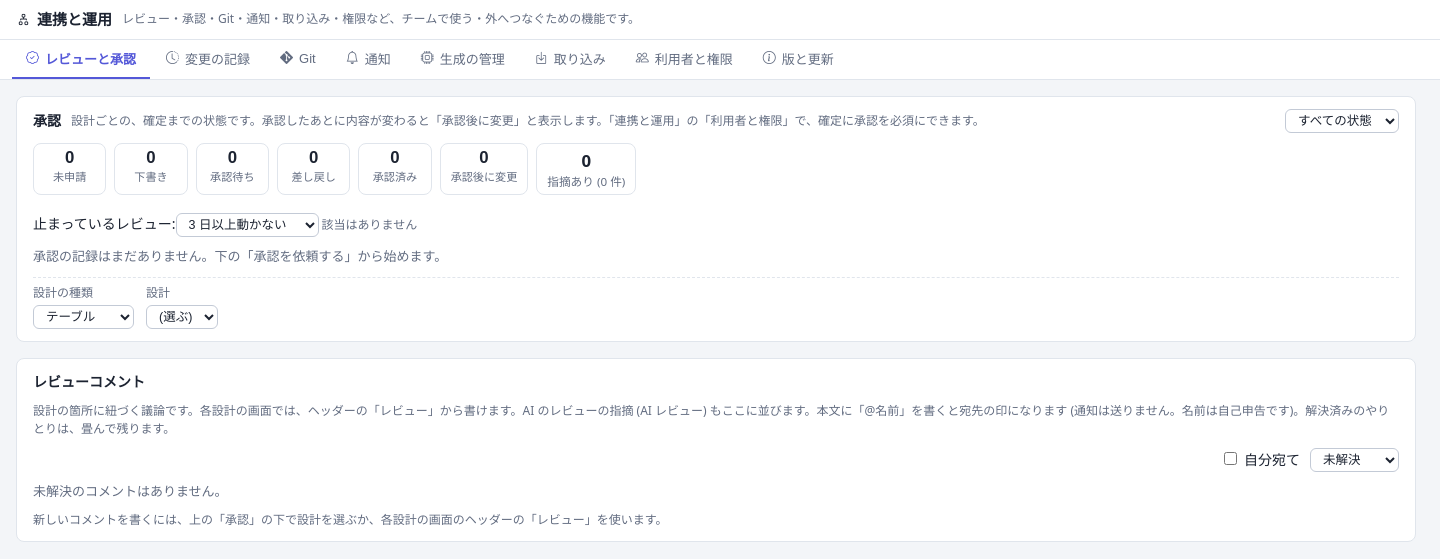
Scenario: 利用者と権限 › 保存が断られたら、理由を画面に出す
The image size is (1440, 559).
Click the tab "利用者と権限" at x=684, y=59, box [622,40,747,78]
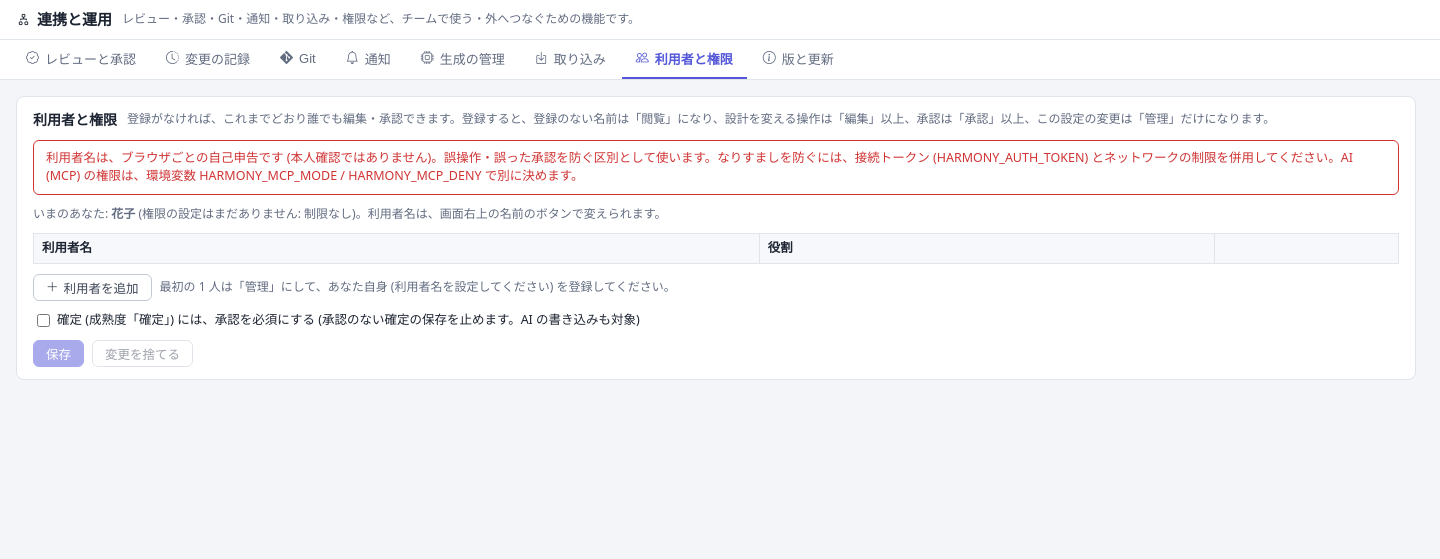
Click the button with test id "op-access-add" at x=92, y=287, box [33,274,152,301]
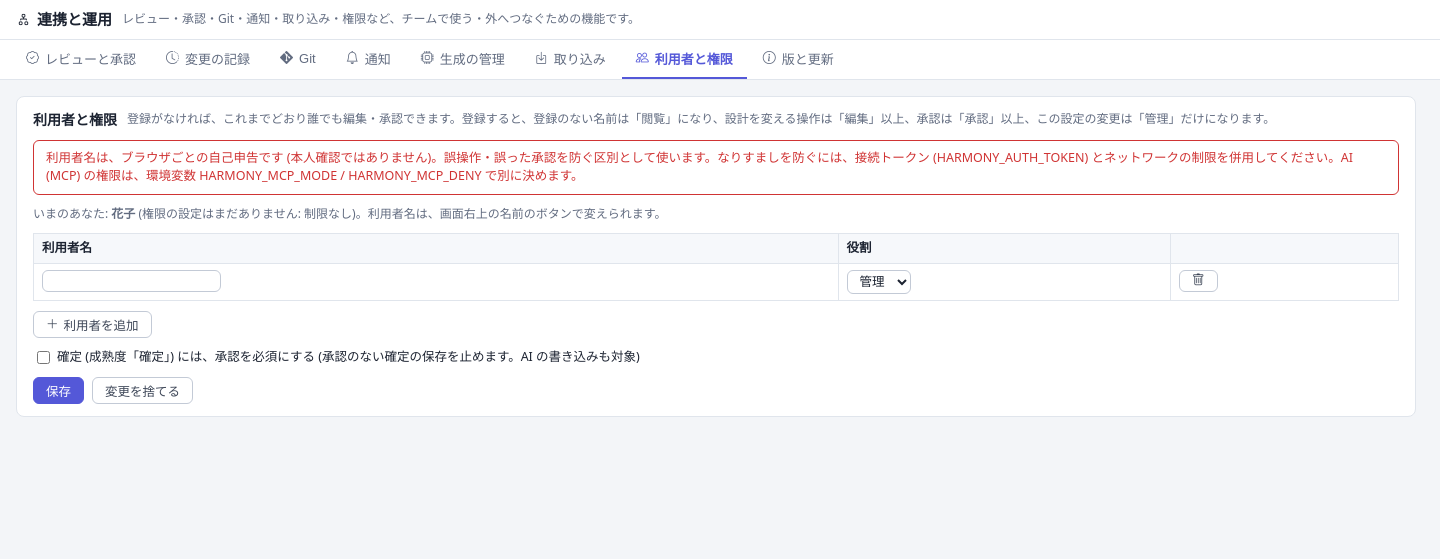
Click the button with test id "op-access-save" at x=58, y=390, box [33,377,84,404]
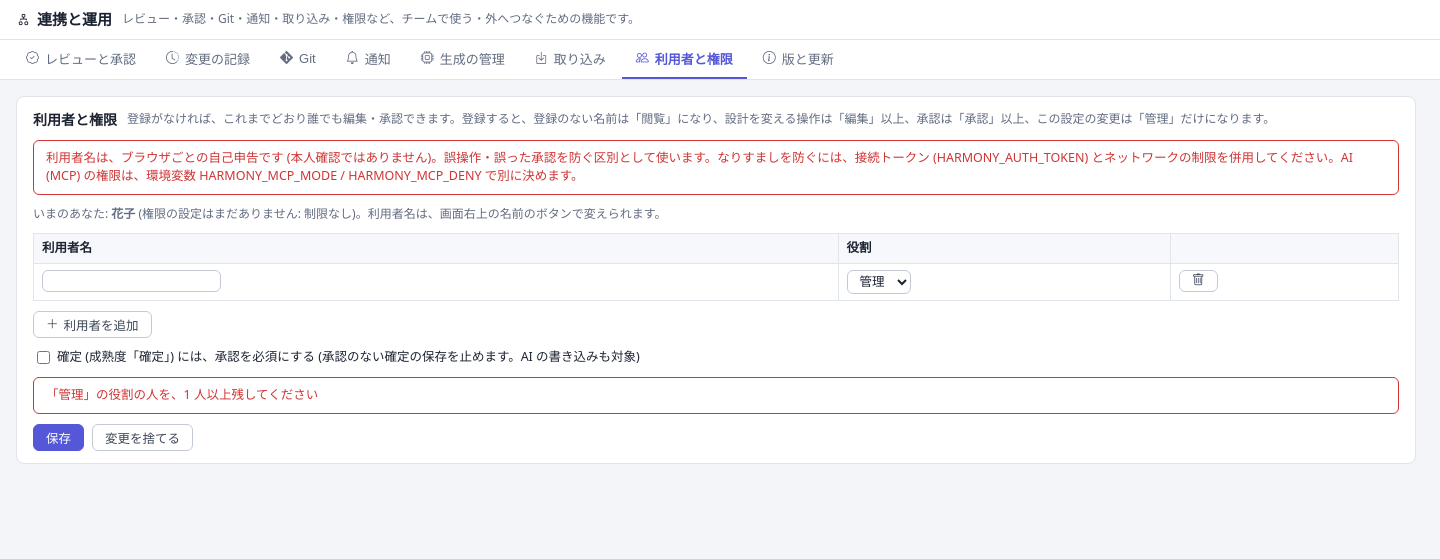
Expected: the message with test id "op-access-error" shows "「管理」の役割の人を", [46,386,318,403]
